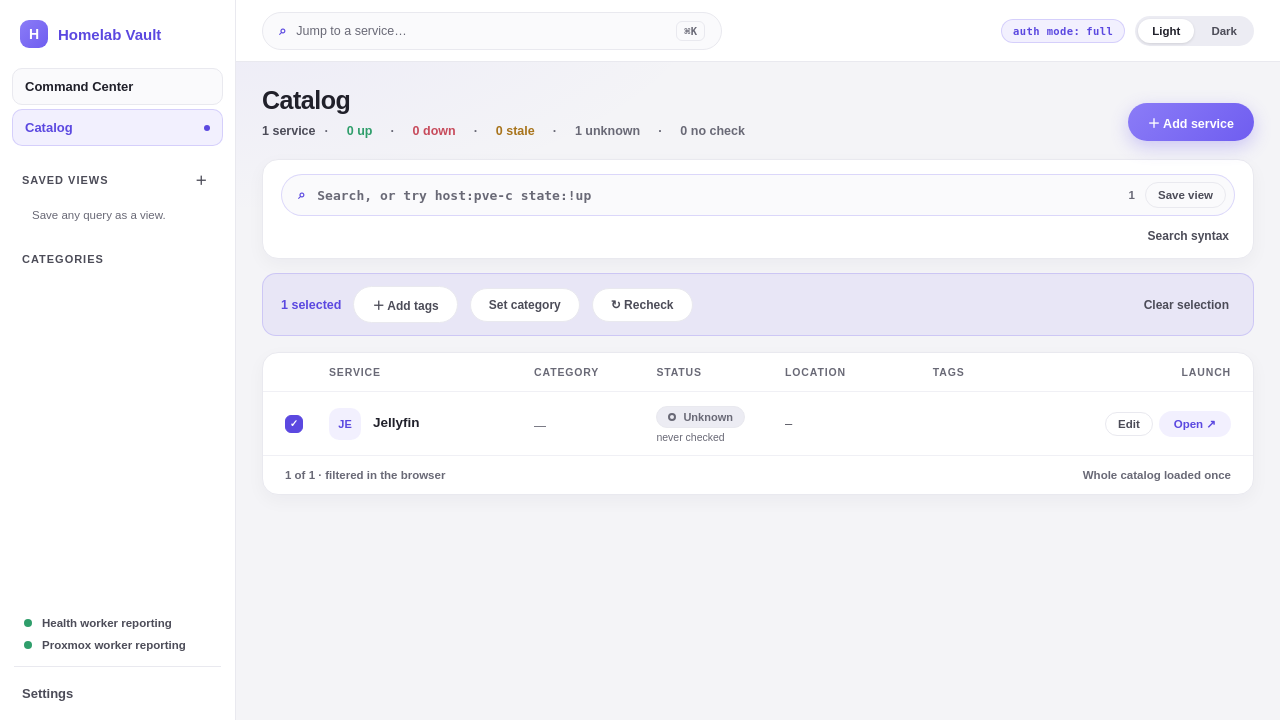
it: write-path error handling (audit S11) › shows a failed bulk tag in its modal and keeps the selection
Click the button "＋ Add tags" at (406, 304), box [354, 286, 458, 323]
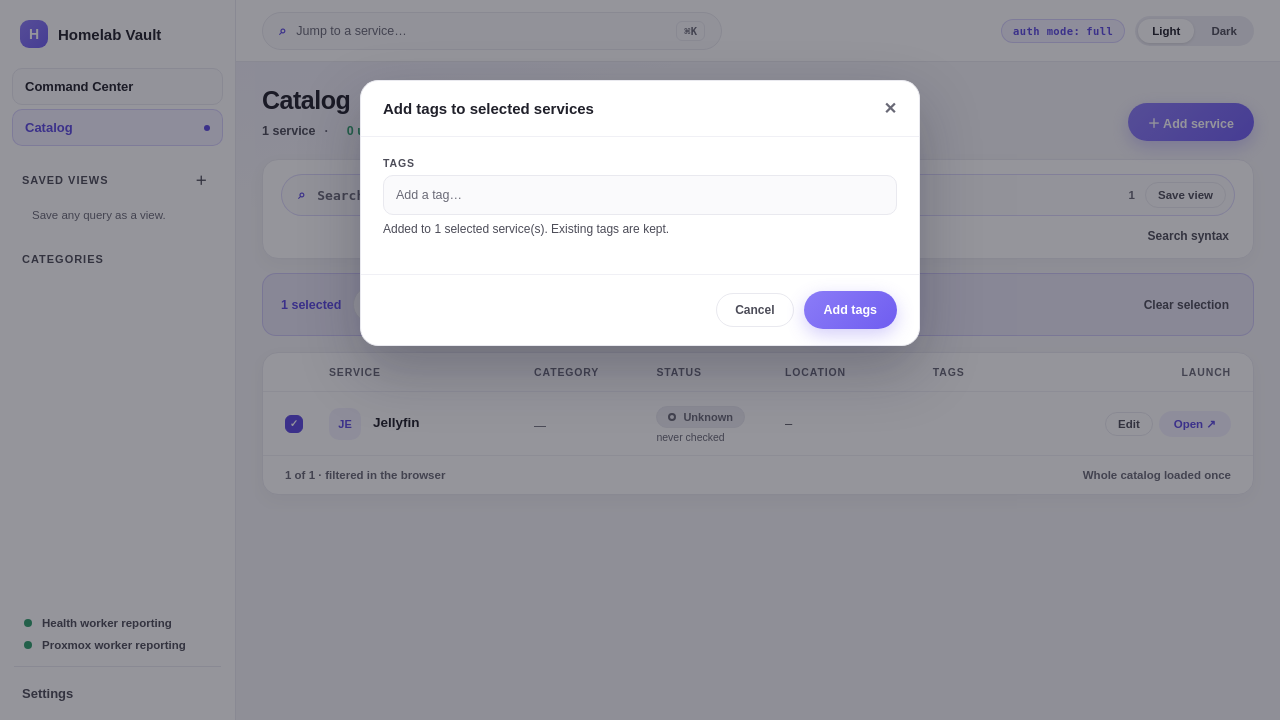
Type "newtag" into the dropdown with placeholder "Add a tag…" at (640, 195), box [394, 184, 886, 206]
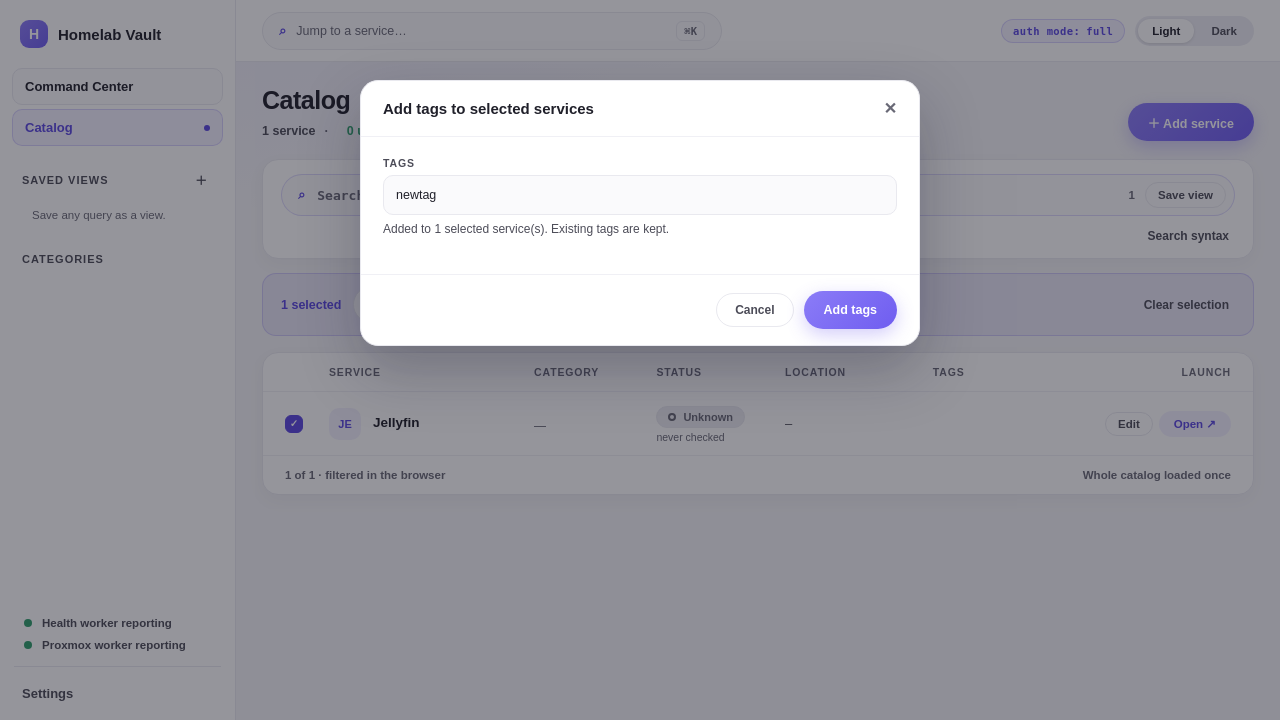
Press Enter in the dropdown, box [394, 184, 886, 206]
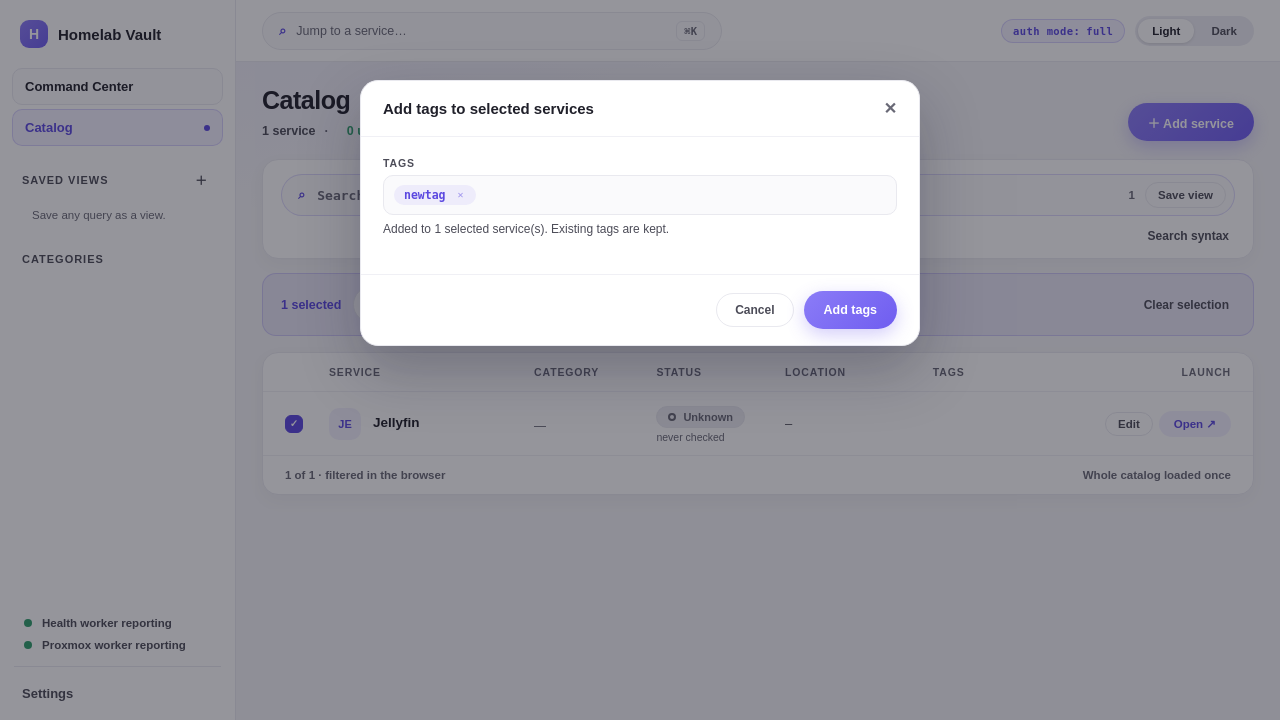
Click the button "Add tags" at (850, 310), box [804, 291, 897, 329]
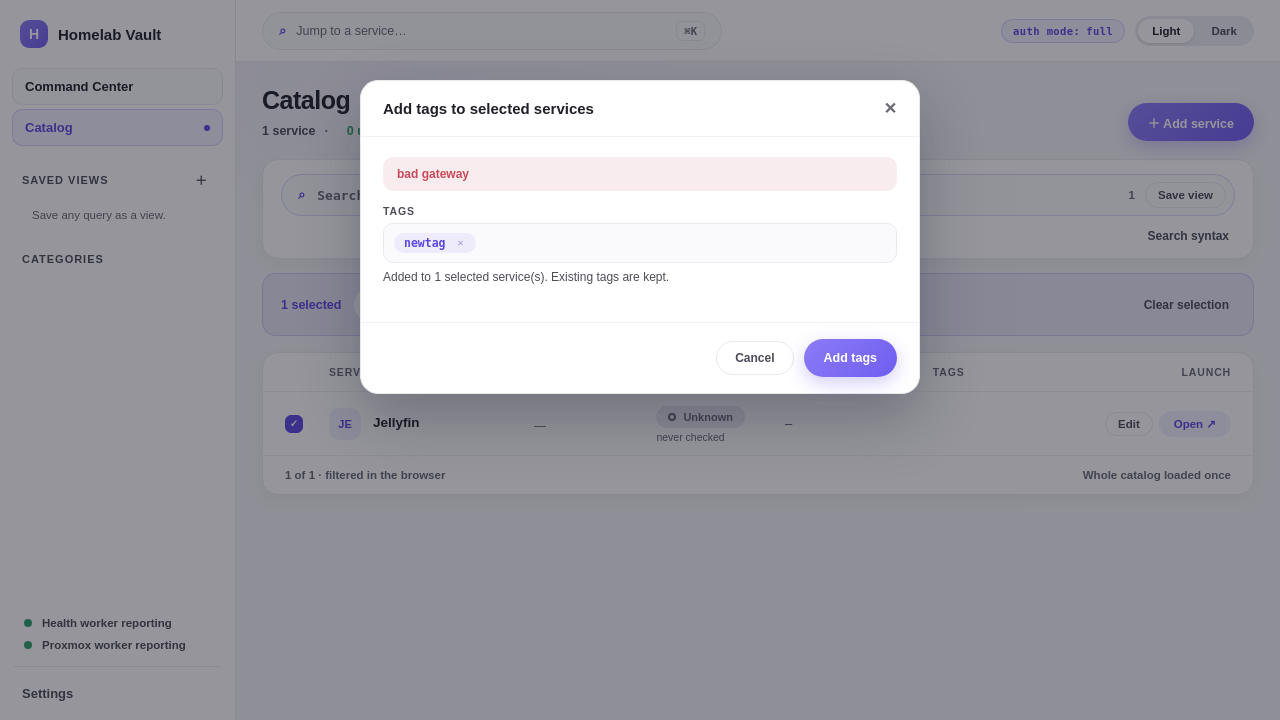
Now the text with class "err" reads "bad gateway", box [397, 167, 469, 181]
